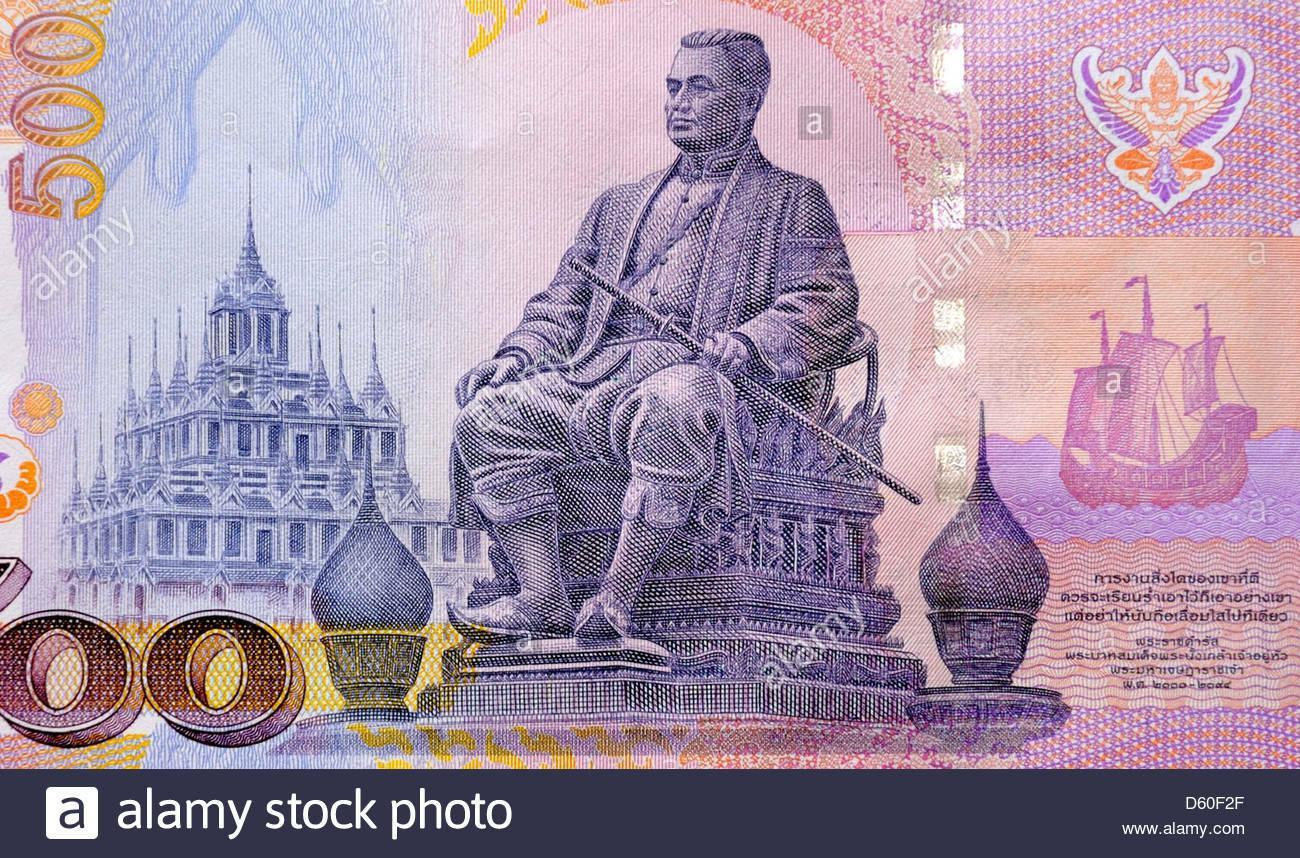500BahtTai: (0, 0, 1300, 760)
